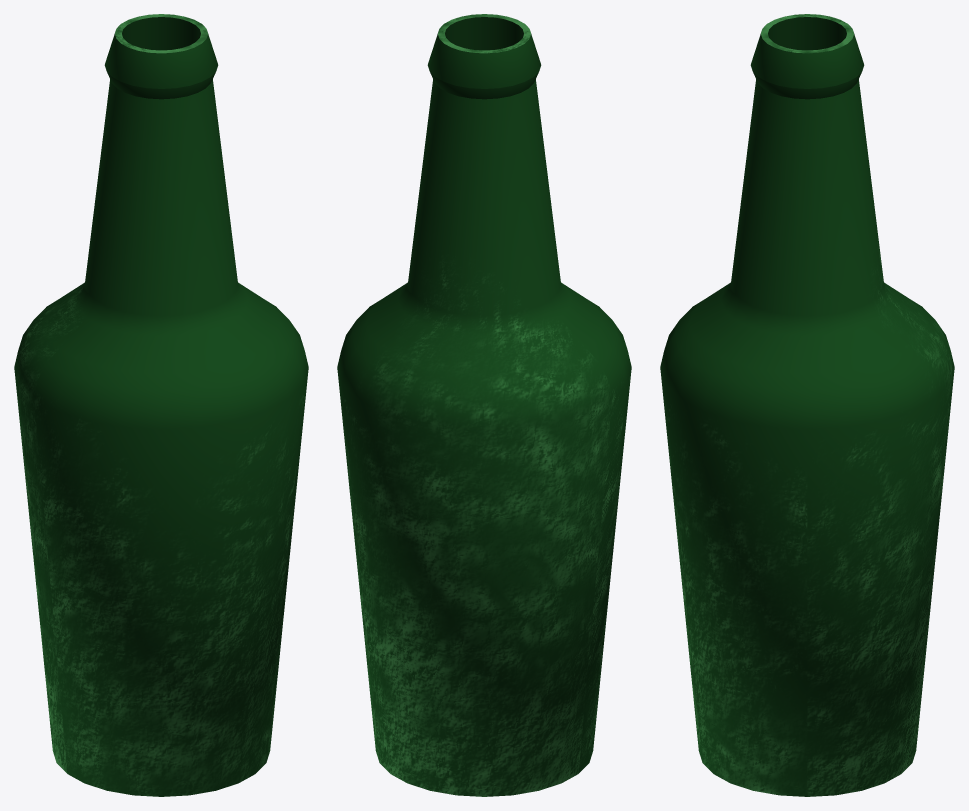
Rendered from 유리병2.fbx.
The picture shows the model from 3 angles, left to right: view 1: azimuth 30°, elevation 25°; view 2: azimuth 150°, elevation 25°; view 3: azimuth 270°, elevation 25°; orthographic projection.
Parts seen in each view (by area): view 1: 2번; view 2: 2번; view 3: 2번.
Boxes of the visible parts, left/top/right/bottom form: 2번: left=14, top=14, right=308, bottom=796; 2번: left=337, top=14, right=631, bottom=796; 2번: left=660, top=14, right=954, bottom=796.
Bounding box in the file's own units: 231 × 622 × 231.
1 material, 1 textured.
